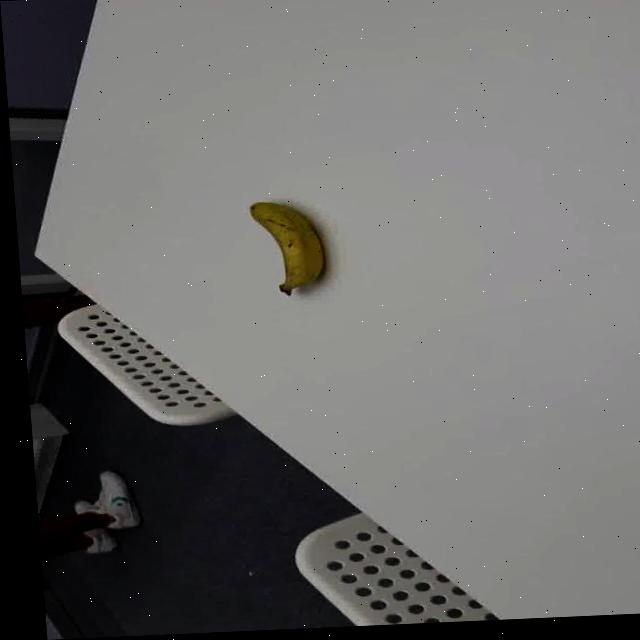banana: (250, 198, 327, 298)
